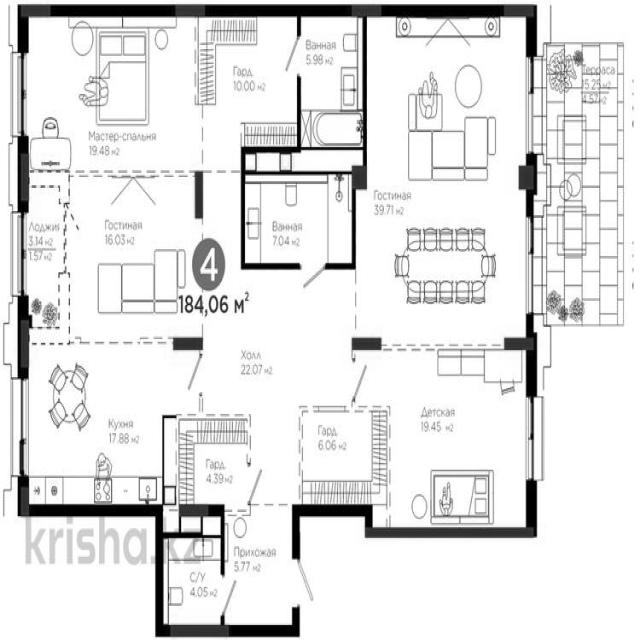balcony: (538, 44, 625, 330), (27, 176, 66, 338)
bathroom: (242, 175, 352, 267), (303, 16, 365, 146), (162, 511, 223, 629)
hallway: (205, 272, 353, 406), (227, 511, 293, 622)
kitchen: (30, 347, 161, 508)
living_room: (368, 19, 524, 343), (371, 354, 529, 532), (24, 17, 202, 173), (70, 177, 200, 342)
other: (204, 18, 296, 146), (306, 412, 371, 503), (180, 419, 248, 503)
